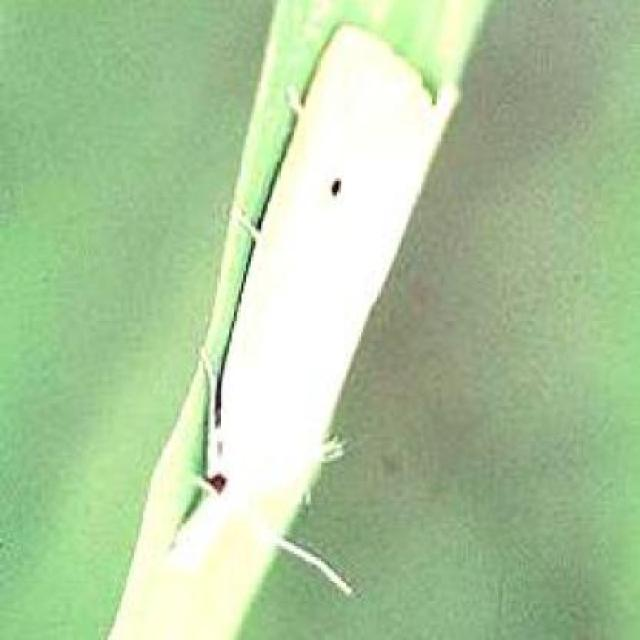stem-borer: (148, 20, 464, 600)
